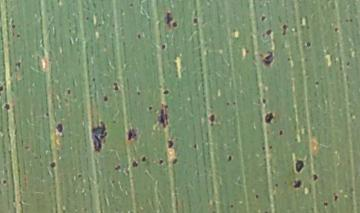tarspot: (90, 120, 109, 153), (155, 103, 170, 129), (261, 50, 274, 67), (163, 11, 173, 29), (294, 158, 304, 175), (126, 127, 138, 141), (263, 111, 273, 125), (54, 122, 65, 134), (208, 113, 216, 128), (292, 178, 302, 189), (2, 101, 11, 112), (281, 23, 288, 37), (166, 139, 174, 150), (129, 161, 139, 169), (264, 27, 272, 37), (48, 161, 57, 169), (192, 16, 199, 26), (112, 81, 119, 91), (260, 14, 267, 24), (112, 164, 122, 171), (14, 61, 22, 69), (313, 78, 321, 86), (305, 40, 312, 49), (171, 157, 178, 166), (191, 141, 198, 150), (23, 144, 32, 151), (312, 173, 318, 183), (226, 155, 233, 163), (102, 95, 109, 103), (171, 20, 178, 28), (2, 178, 9, 186), (228, 202, 235, 210), (285, 55, 292, 63), (127, 1, 135, 8), (84, 14, 91, 22), (261, 96, 267, 105), (66, 87, 72, 96), (254, 193, 261, 200), (224, 100, 231, 107), (90, 75, 97, 82), (278, 128, 284, 136), (160, 43, 166, 51), (44, 110, 50, 118), (267, 143, 273, 151), (244, 45, 250, 53), (332, 194, 338, 201), (322, 201, 328, 208), (162, 89, 169, 95), (140, 155, 146, 162), (158, 159, 164, 166), (15, 32, 21, 39), (10, 22, 16, 29), (260, 145, 267, 151), (135, 90, 142, 96), (273, 181, 279, 188), (231, 99, 237, 106), (348, 17, 354, 24), (76, 172, 82, 179), (55, 1, 61, 8), (345, 59, 350, 67), (147, 105, 153, 111), (293, 137, 299, 143), (231, 27, 237, 33), (136, 33, 141, 40), (333, 26, 338, 33), (1, 85, 4, 95)
